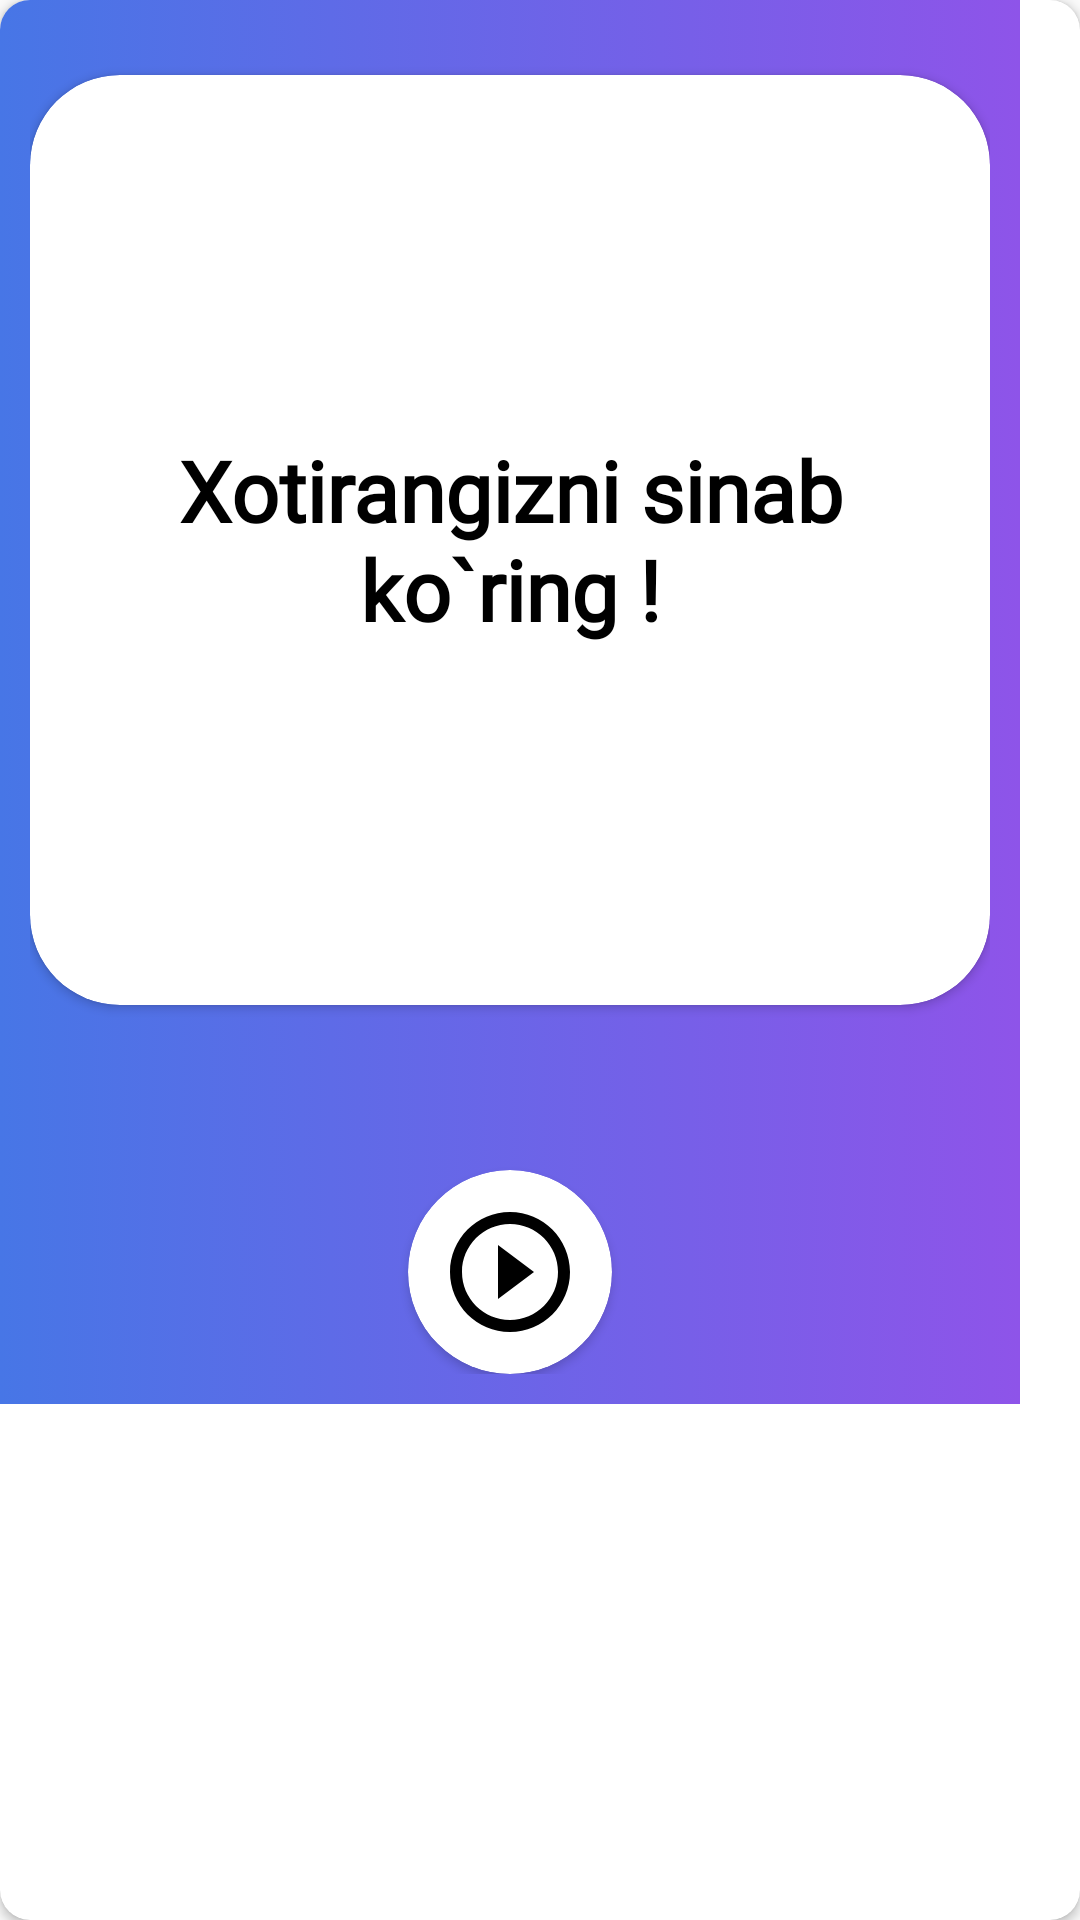

Where to tap for icons on this 1080 x 1920 app screen, as (x,y):
play circle: (510,1272)
